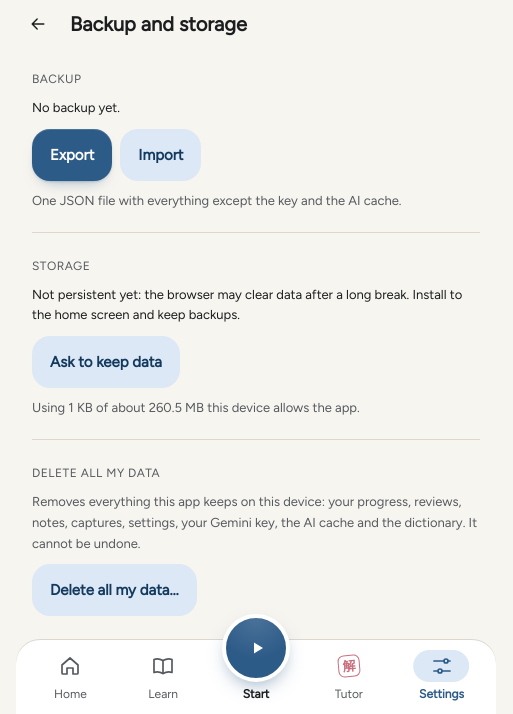
Test case: Backup (K7) › exports a file and records the date
Expected: the text "No backup yet." is shown, [32, 100, 120, 115]
Click the button "Export" at point(72, 155), box [32, 129, 112, 181]
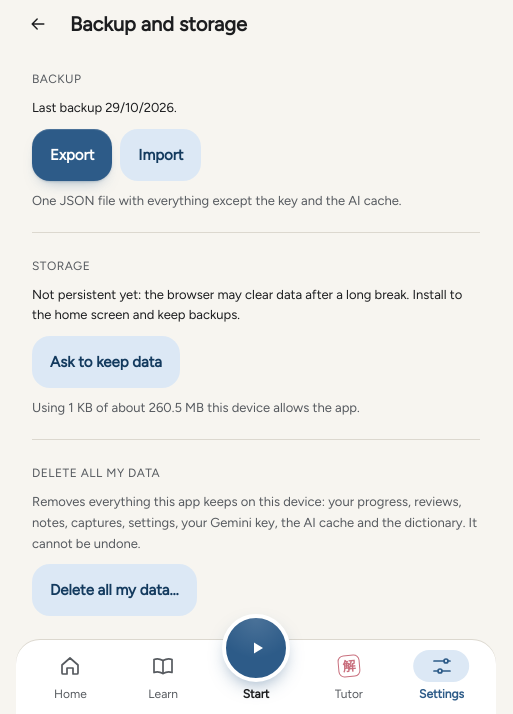
Now the text "Last backup 29/10/2026." is shown, box [32, 100, 177, 115]
